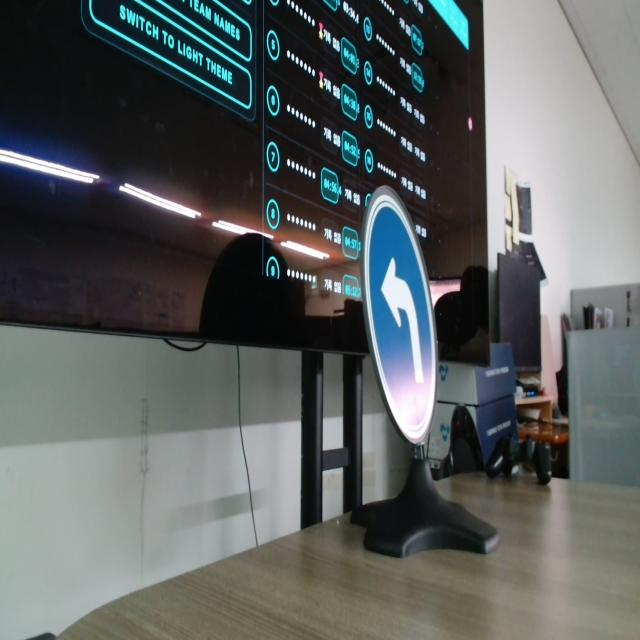left_direction: (338, 164, 461, 454)
